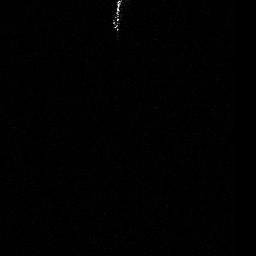ship: (113, 1, 121, 30)
